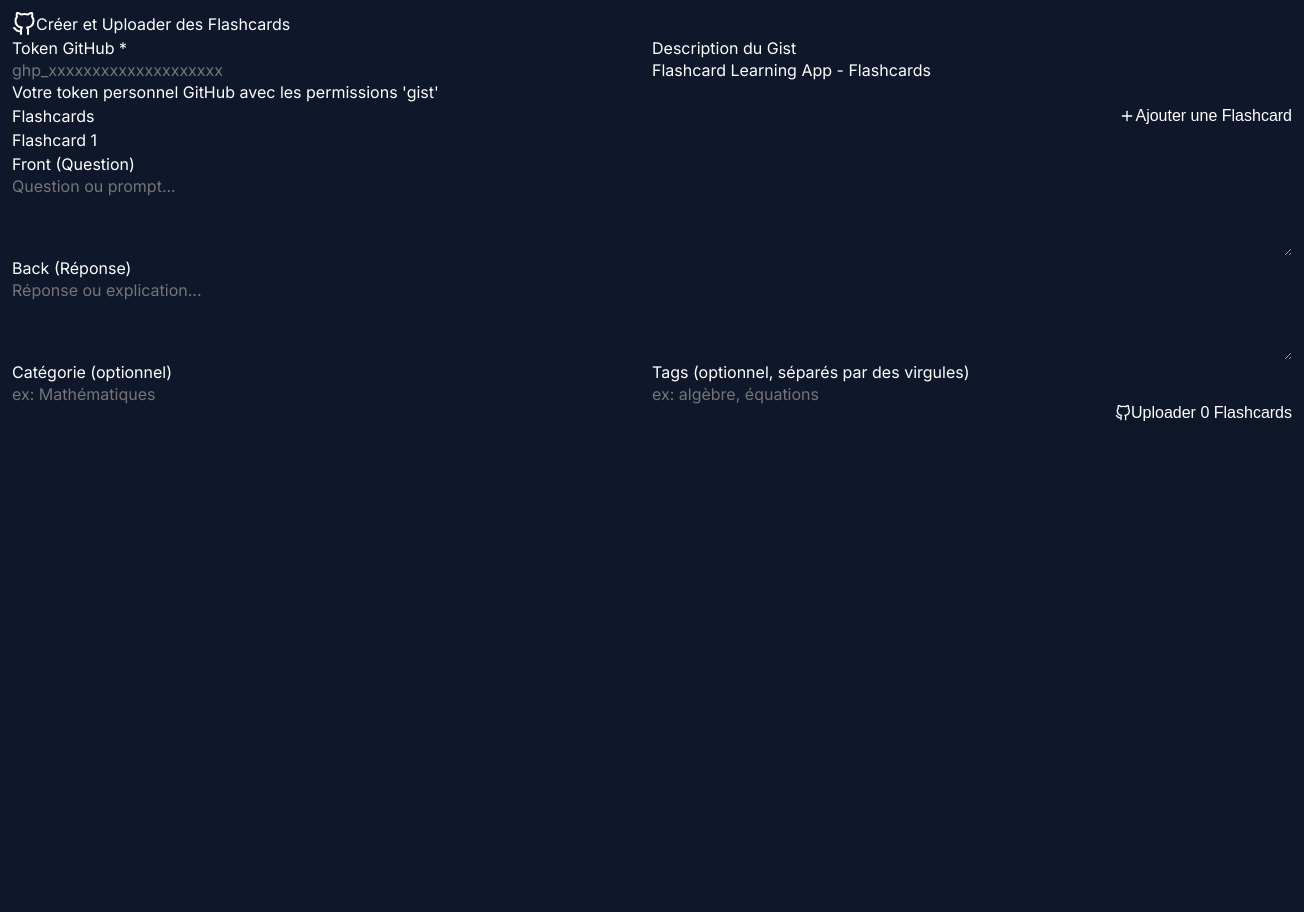
Test: GistFlashcardWriter › should remove flashcard
The image size is (1304, 912).
// Add a flashcard first
Click the button "Ajouter une Flashcard". click: point(1206, 116)
box: [1120,107,1292,125]
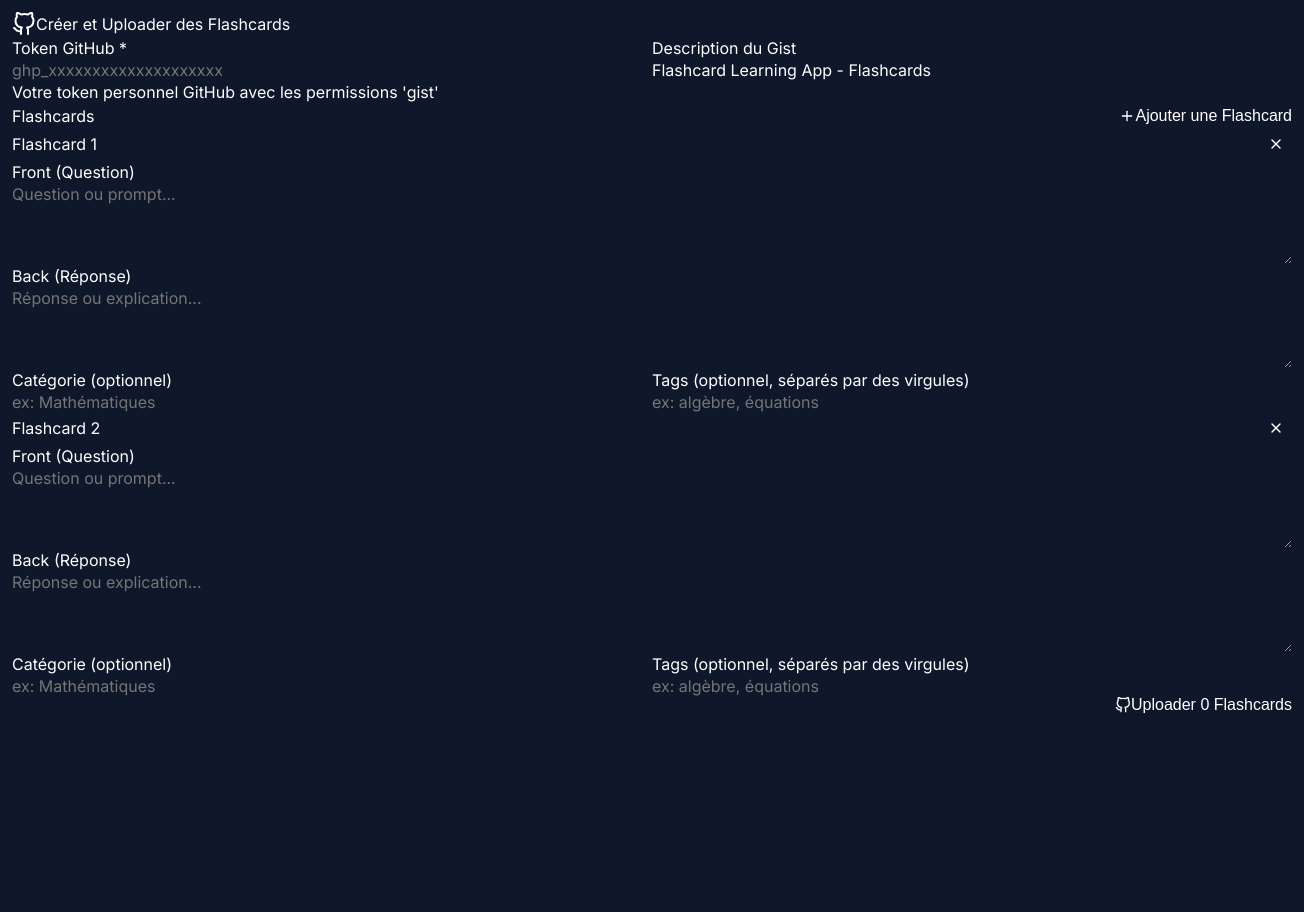
Click the 2nd button. click: point(1276, 144)
box: [1260,128,1292,160]
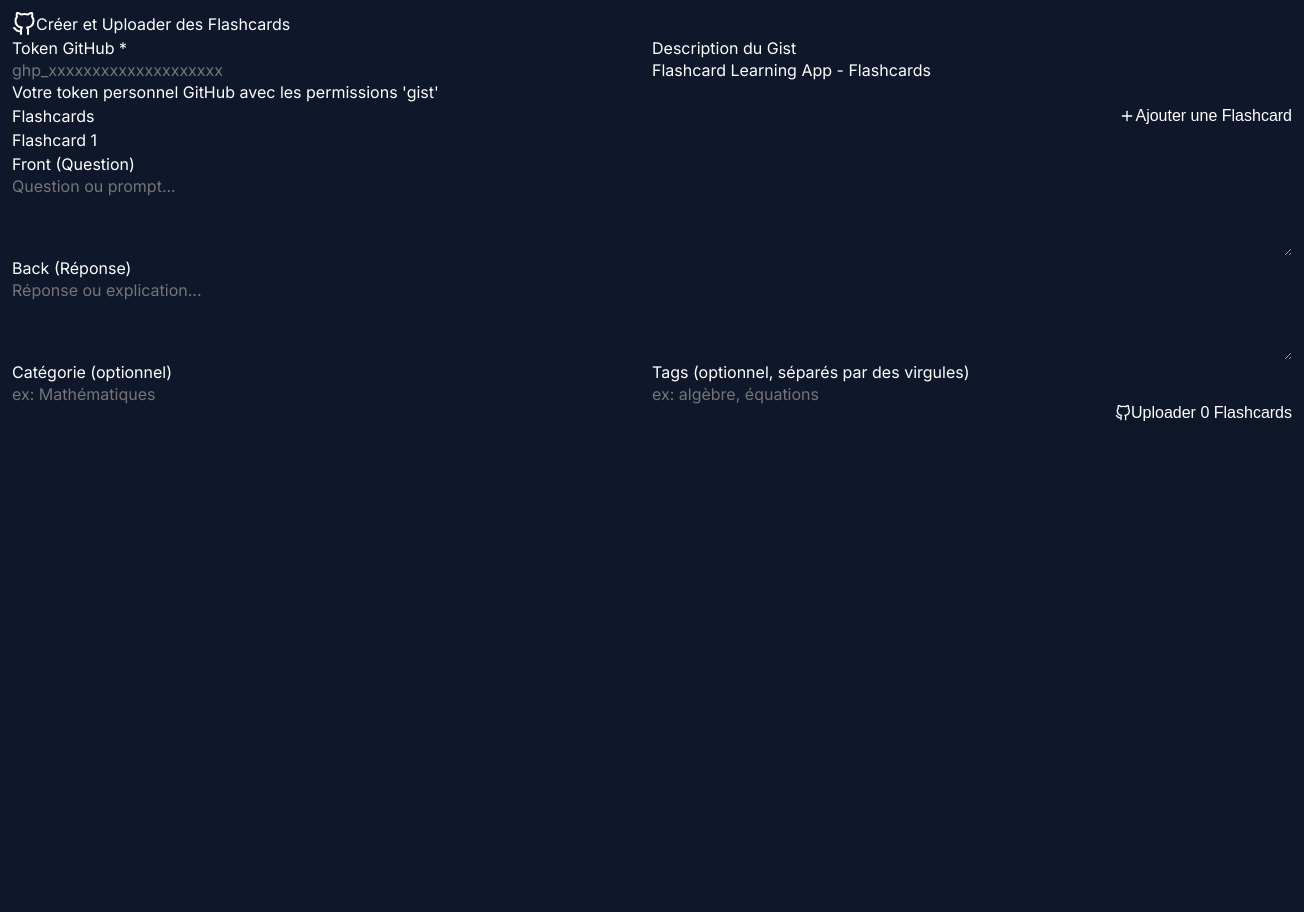
expect the number of text boxes with placeholder "Question ou prompt..." is 1: met, box [12,176,1292,256]
